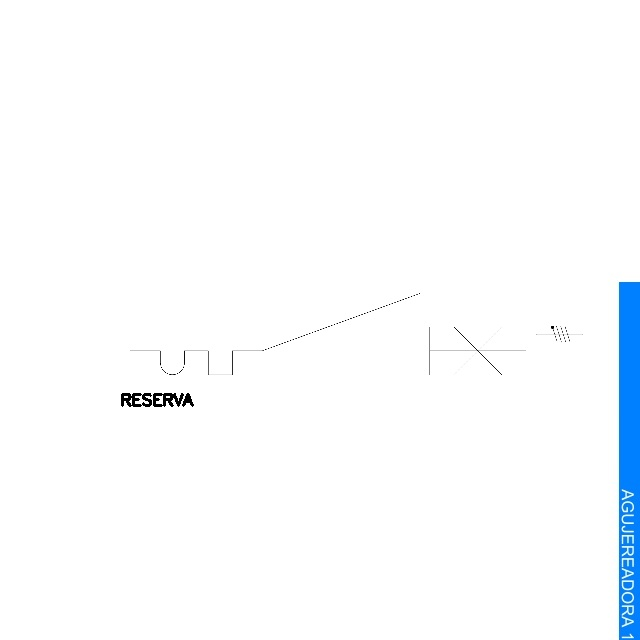interruptor_termomagnetico: (120, 283, 536, 385)
